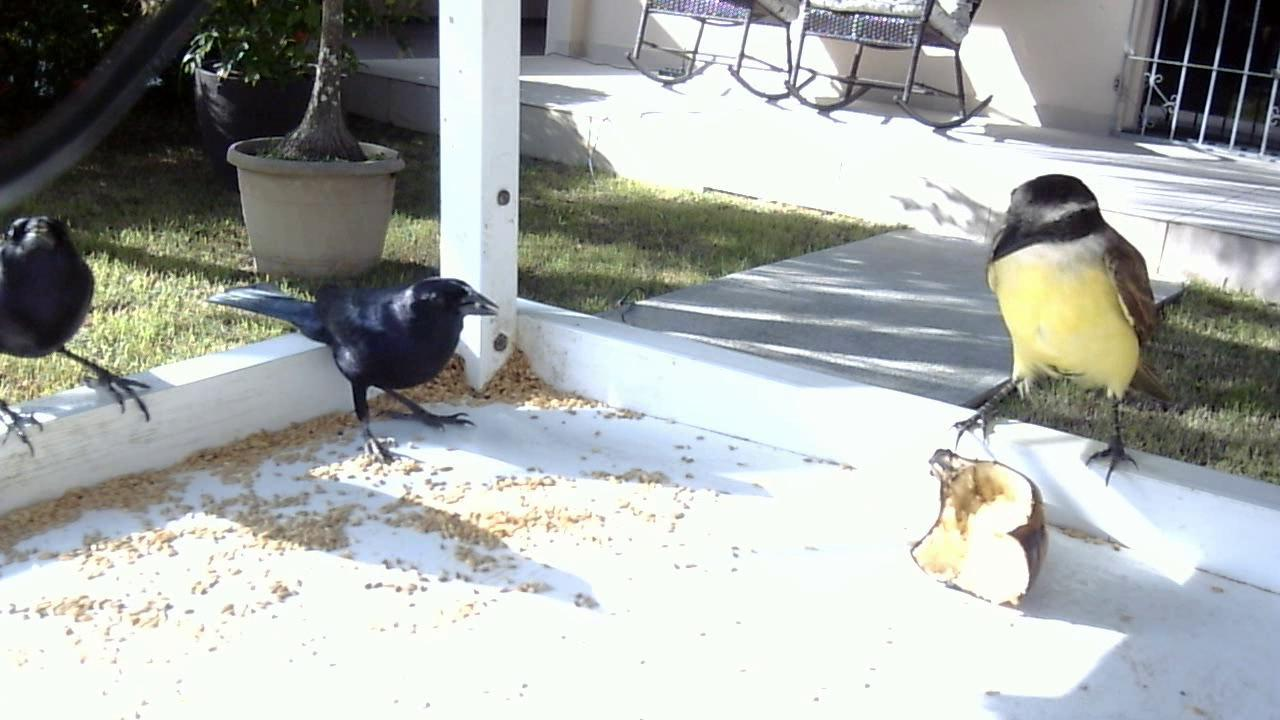bem_te_vi: (930, 165, 1193, 497)
chupim: (201, 264, 501, 472), (1, 204, 168, 474)
